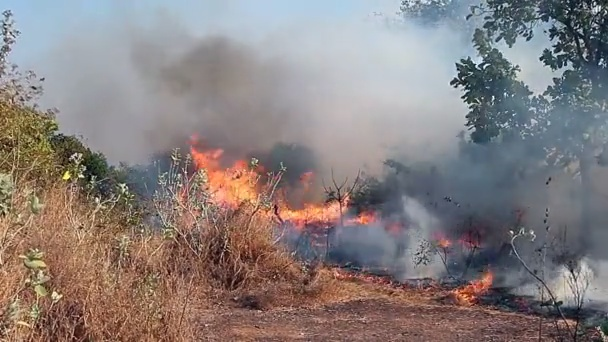fire: (200, 167, 259, 204), (267, 201, 342, 221), (454, 273, 495, 297), (62, 169, 70, 178)
